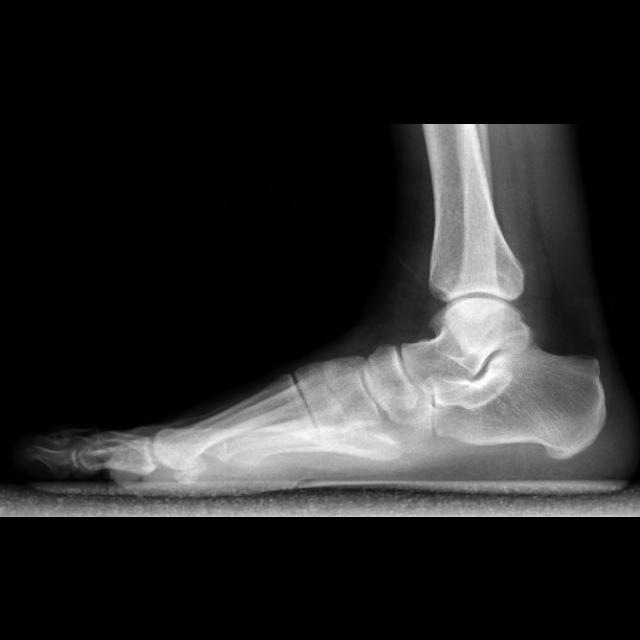a: (431, 343, 605, 459)
b: (365, 345, 419, 415)
c: (152, 372, 320, 469)
